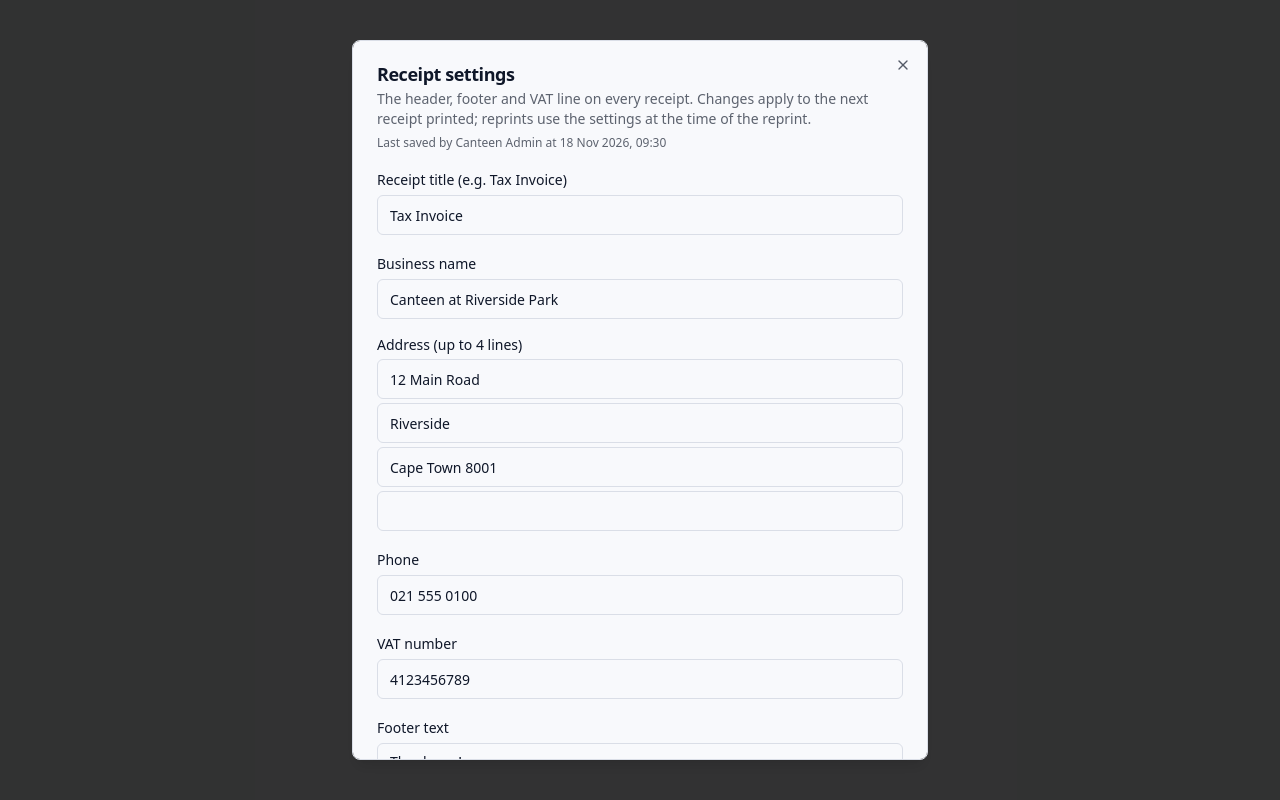
Receipt settings dialog › shows each 400 message under its field, several at once, and stays open
Check: the field showing "Canteen at Riverside Park" is shown, box [377,279,903,319]
Replace the text in the field labelled "VAT number" with "41234567890" at coordinates (640, 679), box [377,659,903,699]
(page scrolled)
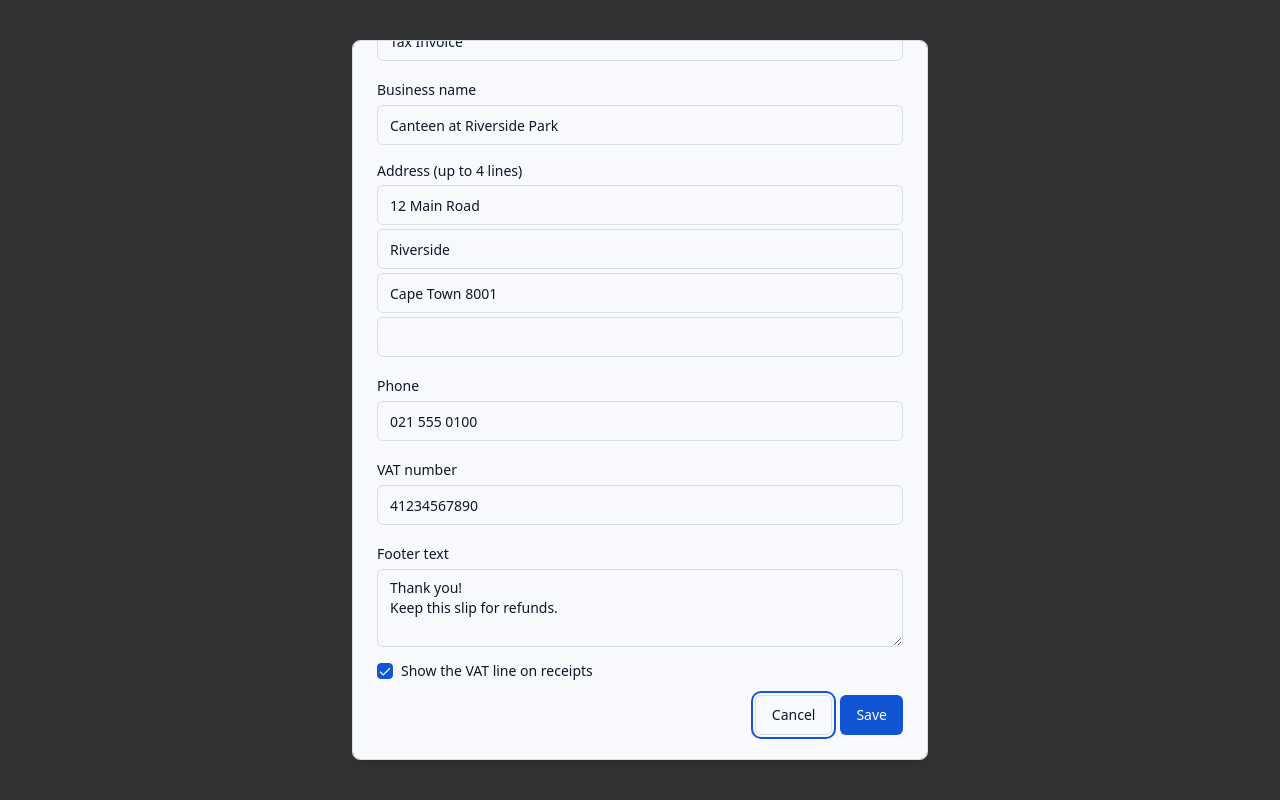
Click the button "Save" at coordinates (872, 715), box [840,695,903,735]
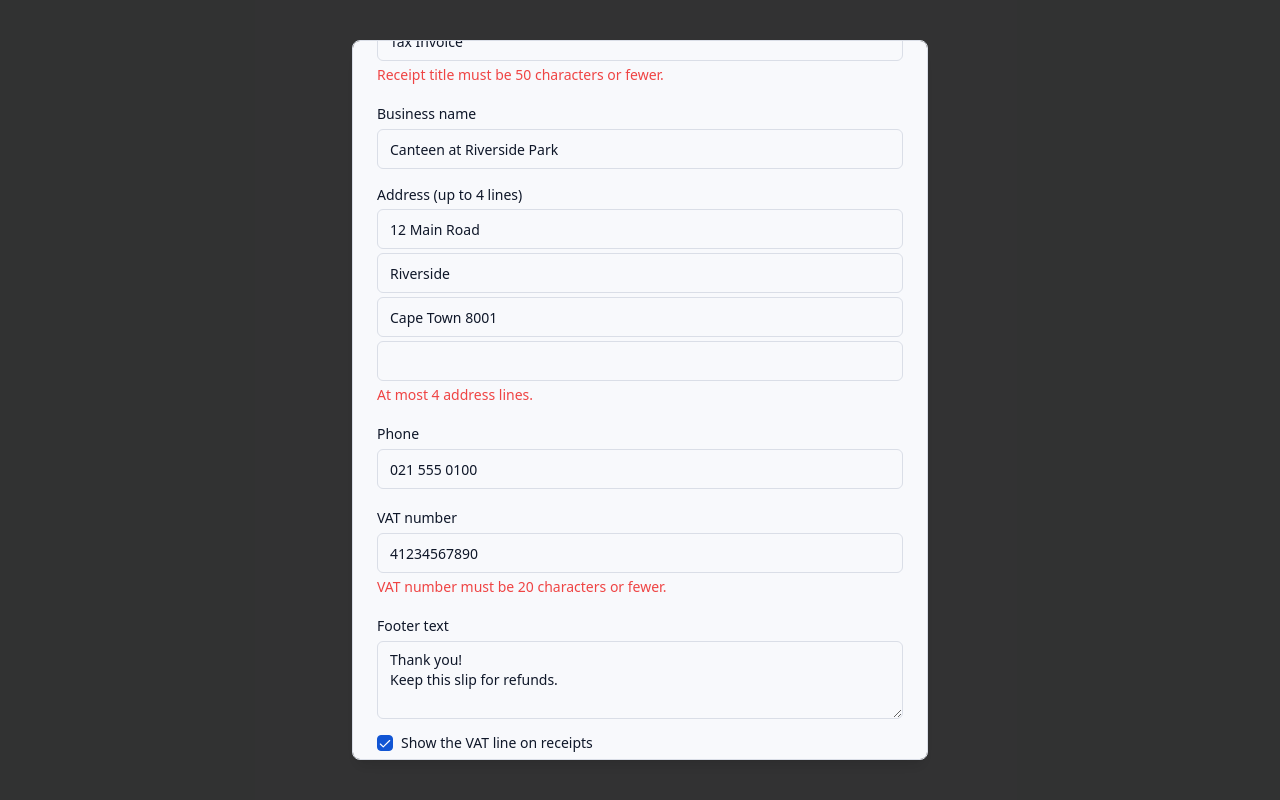
Check: the field labelled "VAT number" is marked as invalid, box [377,533,903,573]
